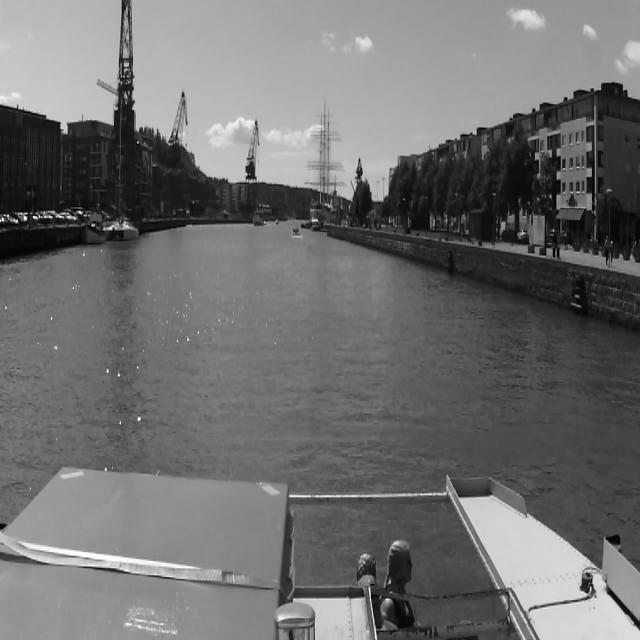ship: (304, 95, 346, 223), (102, 114, 140, 244), (86, 220, 106, 241), (308, 219, 326, 233), (299, 215, 316, 229), (289, 223, 301, 237), (254, 213, 264, 225), (301, 222, 309, 228), (274, 218, 279, 226), (274, 219, 278, 224)
